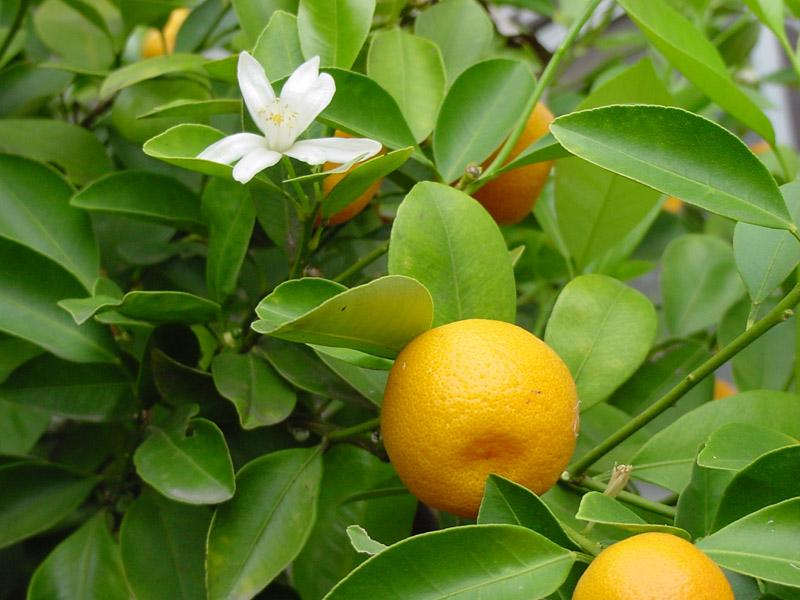Healthy Citrus: (548, 96, 793, 231), (202, 442, 323, 600), (334, 521, 573, 600), (393, 184, 518, 317), (0, 252, 137, 369), (434, 48, 529, 188), (0, 161, 101, 288), (25, 508, 139, 600), (0, 458, 114, 544), (137, 400, 234, 497), (71, 161, 206, 230), (213, 343, 307, 424)
